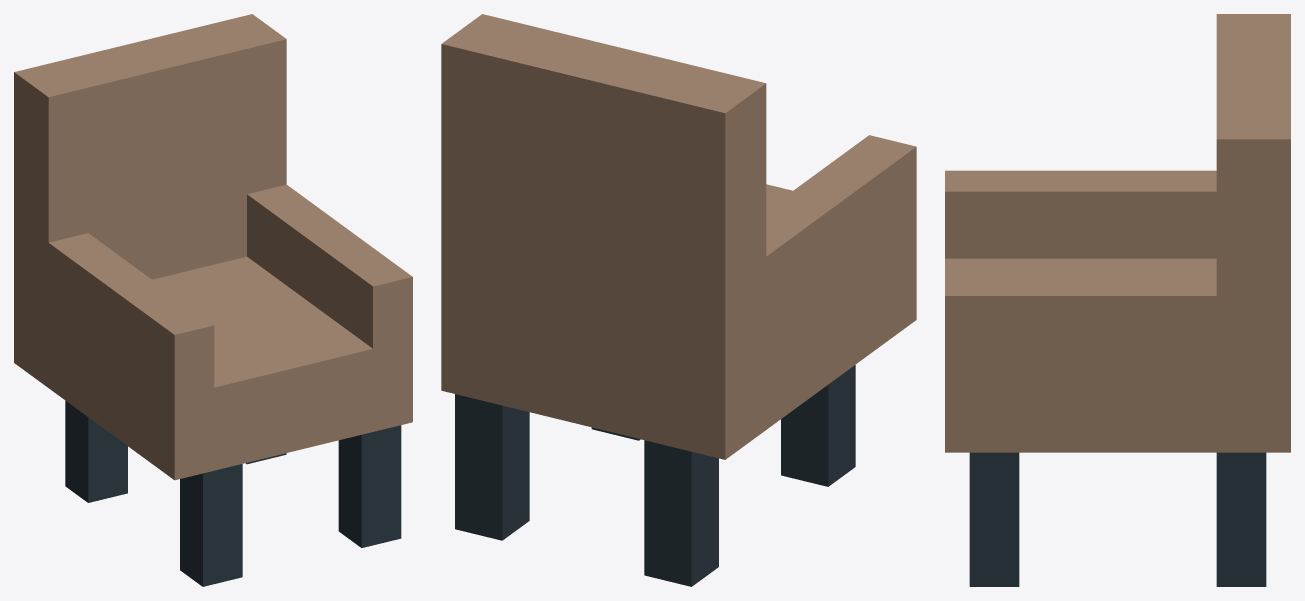
The model's file is publishing-13.glb.
The picture shows the model from 3 angles, left to right: view 1: azimuth 30°, elevation 25°; view 2: azimuth 150°, elevation 25°; view 3: azimuth 270°, elevation 25°; orthographic projection. The views are drawn at different scales.
Visible parts, largest first — view 1: Reading armchair; view 2: Reading armchair; view 3: Reading armchair.
Boxes of the visible parts, box(x1,y1,x2,y2) form: Reading armchair: box(14, 14, 412, 586); Reading armchair: box(441, 14, 916, 586); Reading armchair: box(945, 14, 1290, 586).
Bounding box in the file's own units: 0.96 × 1.6 × 1.12.
